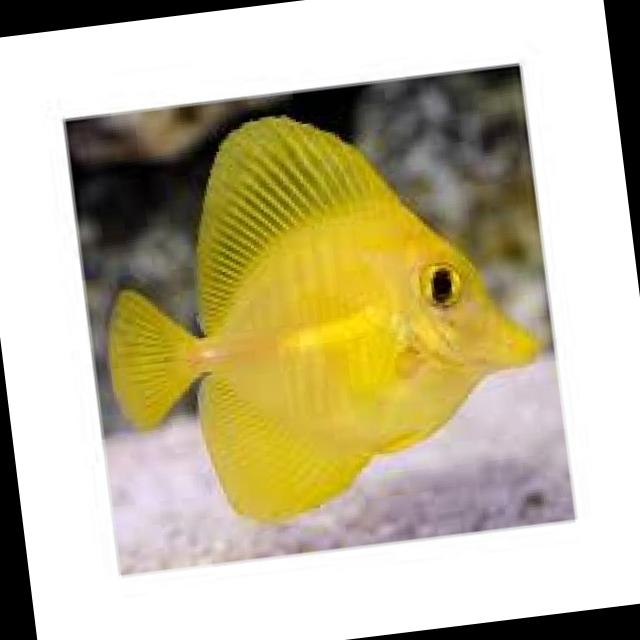YellowTang: (67, 71, 570, 553)
